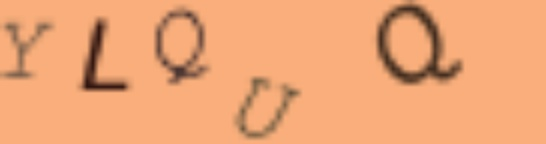L: (78, 17, 138, 96)
Q: (370, 1, 467, 87), (152, 2, 218, 86)
U: (231, 72, 301, 140)
Y: (1, 18, 52, 81)
